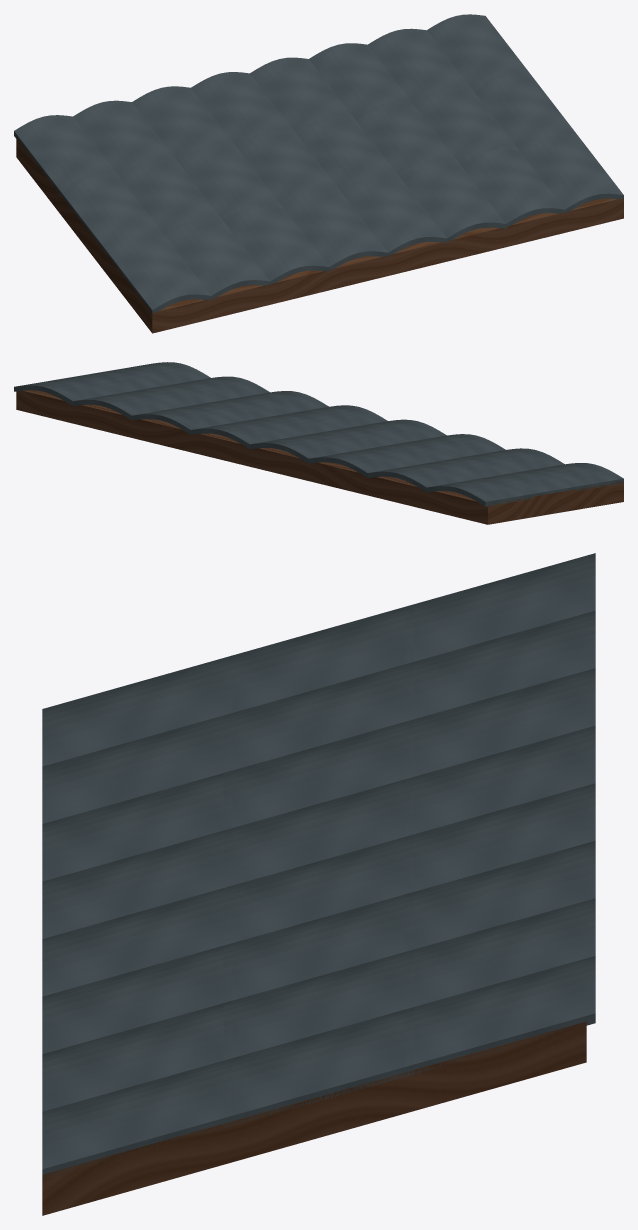
File: roof_eave.gltf
3 views of the same model, one above another, from view 1: azimuth 30°, elevation 25°; view 2: azimuth 150°, elevation 25°; view 3: azimuth 270°, elevation 25° (orthographic). The views are drawn at different scales.
Size of the model in its own units: 1.8 by 0.3957 by 0.915.
Materials: 2 (2 with a texture image).
